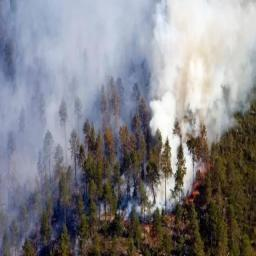Heavy smoke: (0, 0, 248, 243)
